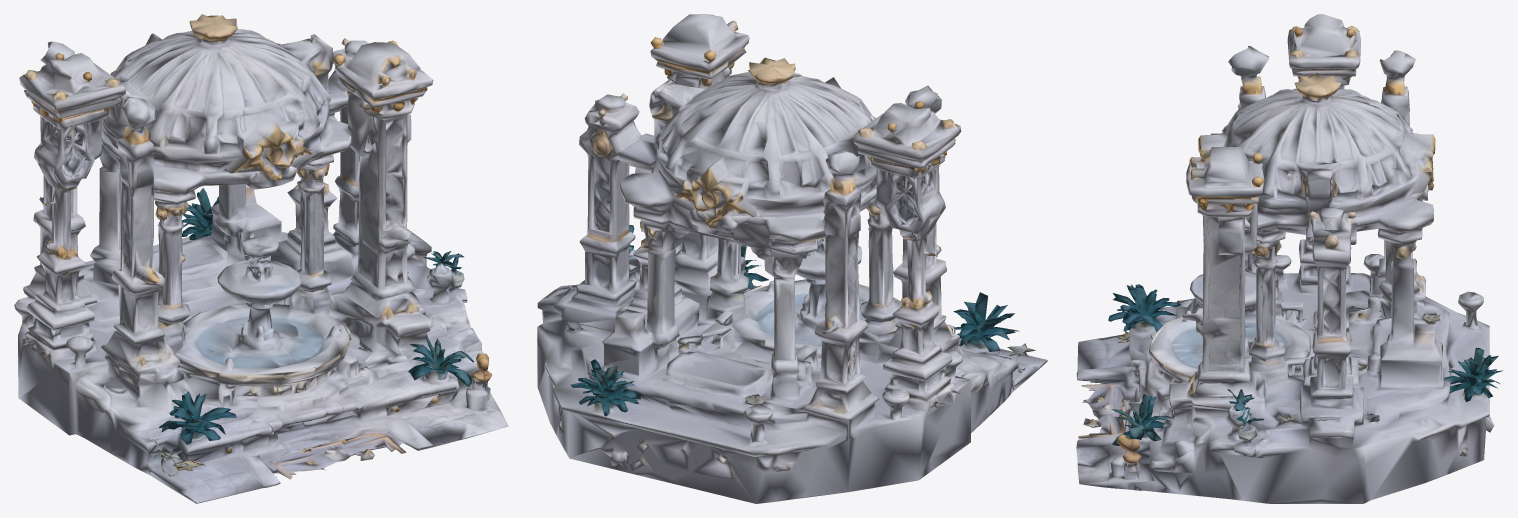
File: tripo_h31_romance_fantasy_palace_courtyard.glb
The picture shows the model from 3 angles, left to right: view 1: azimuth 30°, elevation 25°; view 2: azimuth 150°, elevation 25°; view 3: azimuth 270°, elevation 25°; orthographic projection. The views are drawn at different scales.
Visible parts, largest first — view 1: tripo_node_bcdcfdcd-036a-4aaa-91fe-0f61ca19e10c; view 2: tripo_node_bcdcfdcd-036a-4aaa-91fe-0f61ca19e10c; view 3: tripo_node_bcdcfdcd-036a-4aaa-91fe-0f61ca19e10c.
Boxes of the visible parts, x1,y1,x2,y2 form: tripo_node_bcdcfdcd-036a-4aaa-91fe-0f61ca19e10c: (14,14,508,503); tripo_node_bcdcfdcd-036a-4aaa-91fe-0f61ca19e10c: (537,14,1047,503); tripo_node_bcdcfdcd-036a-4aaa-91fe-0f61ca19e10c: (1076,14,1502,503).
Bounding box in the file's own units: 0.9747 × 0.8282 × 0.978.
1 material, 1 textured.
